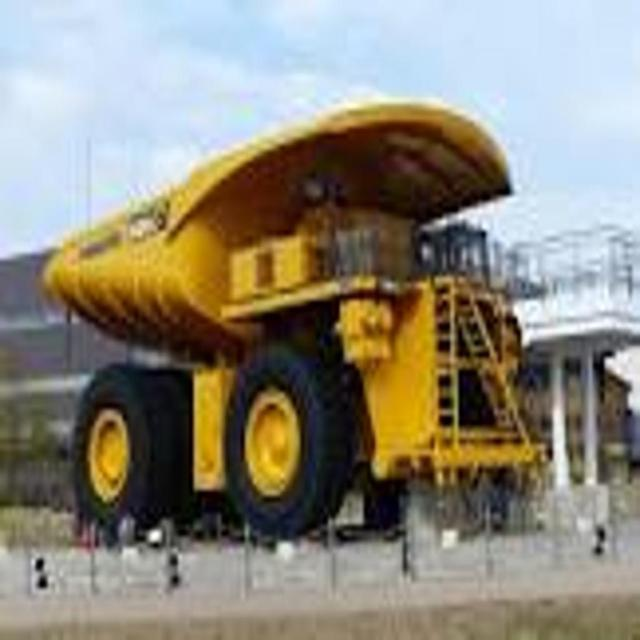dump_truck: (37, 96, 552, 559)
